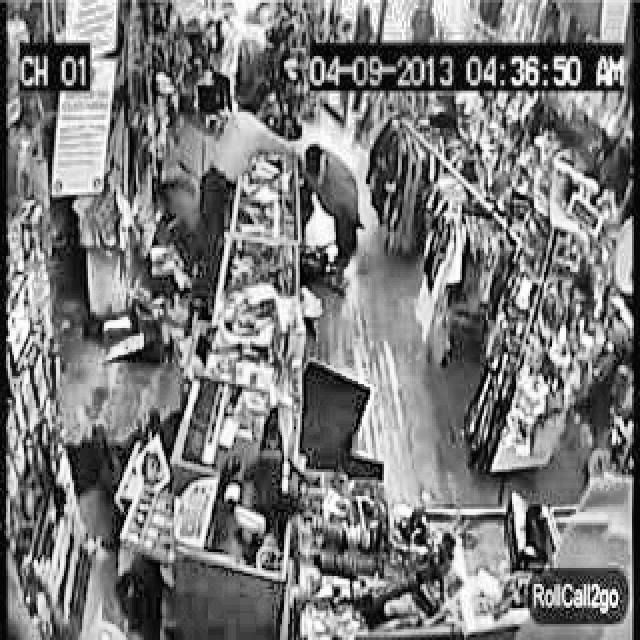robbery: (190, 93, 369, 296)
